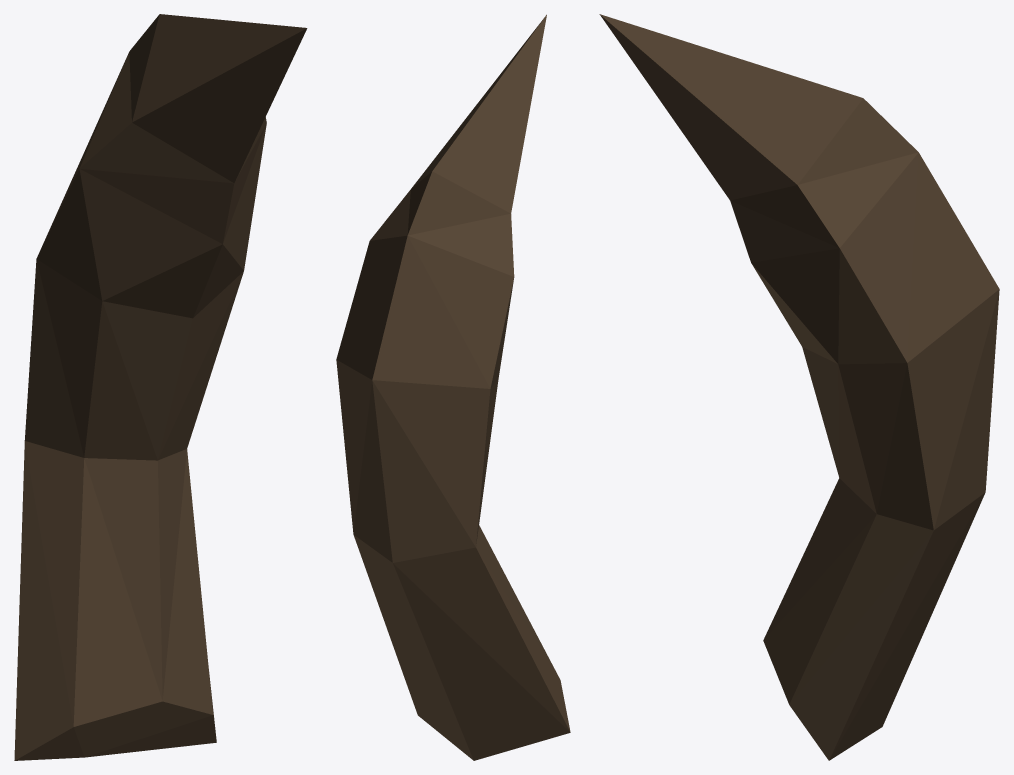
Rendered from ITAT_BLOODFLY_02.OBJ.
3 renders of one model, left to right at view 1: azimuth 30°, elevation 25°; view 2: azimuth 150°, elevation 25°; view 3: azimuth 270°, elevation 25°, orthographic. The views are drawn at different scales.
Parts seen in each view (by area): view 1: ITAT_BLOODFLY_02; view 2: ITAT_BLOODFLY_02; view 3: ITAT_BLOODFLY_02.
Boxes of the visible parts, x1,y1,x2,y2 form: ITAT_BLOODFLY_02: (14, 14, 307, 760); ITAT_BLOODFLY_02: (336, 14, 570, 760); ITAT_BLOODFLY_02: (599, 14, 999, 760).
Bounding box in the file's own units: 0.2133 × 0.6493 × 0.3178.
